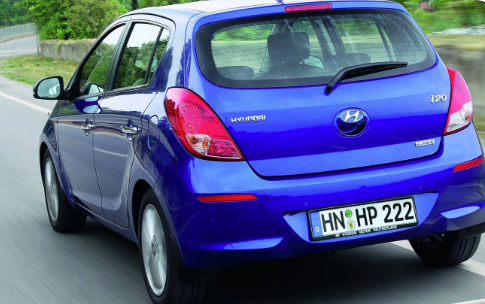car: (33, 1, 485, 302)
